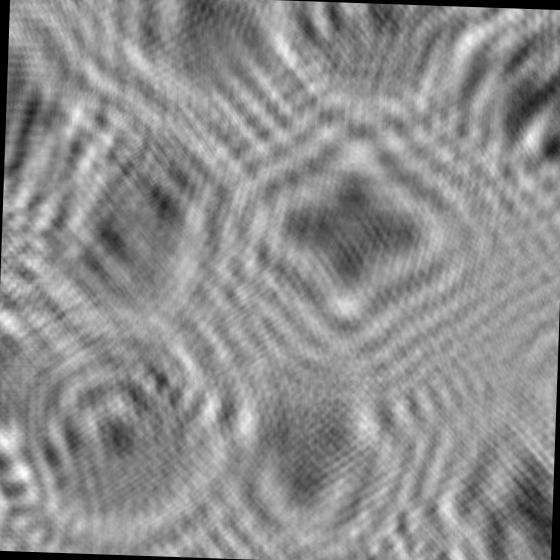U: (0, 312, 238, 558), (233, 0, 505, 153)
V: (88, 0, 310, 124)
W: (415, 5, 560, 250), (420, 364, 557, 560)
X: (210, 110, 492, 382), (0, 98, 253, 363), (0, 0, 135, 262)
Y: (182, 333, 422, 560), (0, 290, 106, 487)
